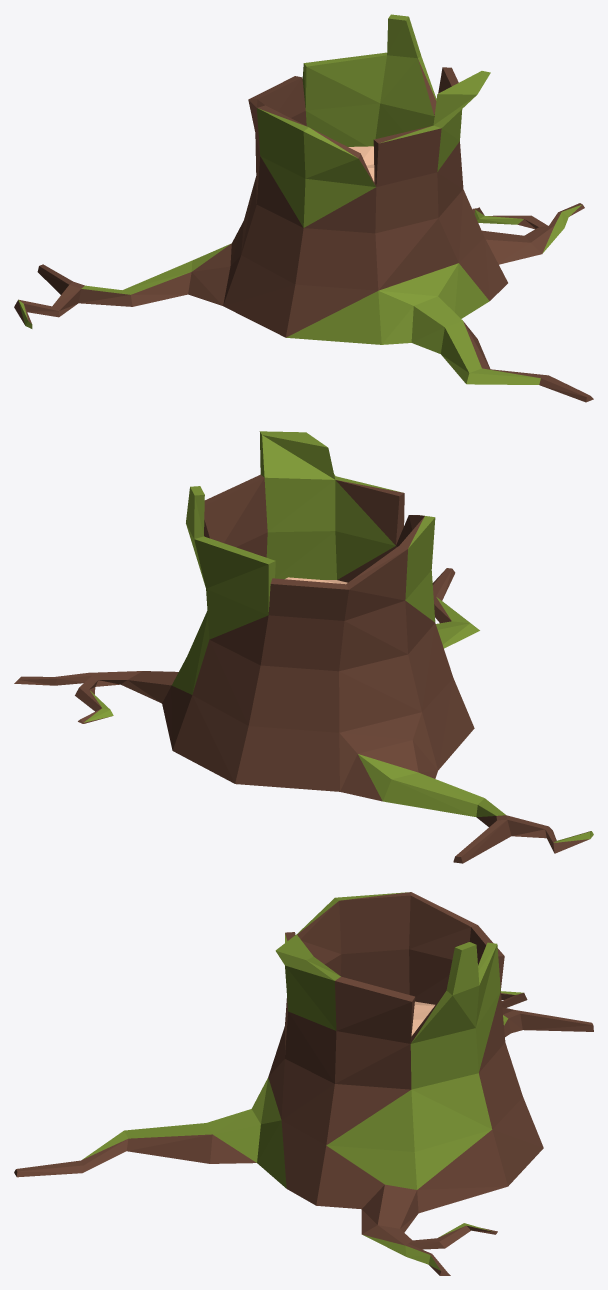
File: TreeTrunk_3_Moss.fbx
The picture shows the model from 3 angles, top to bottom: view 1: azimuth 30°, elevation 25°; view 2: azimuth 150°, elevation 25°; view 3: azimuth 270°, elevation 25°; orthographic projection. The views are drawn at different scales.
Parts seen in each view (by area): view 1: TreeTrunk_3_Moss; view 2: TreeTrunk_3_Moss; view 3: TreeTrunk_3_Moss.
Part boxes in pixels (x1,y1,x2,y2): TreeTrunk_3_Moss: (14, 14, 593, 402); TreeTrunk_3_Moss: (14, 431, 593, 863); TreeTrunk_3_Moss: (14, 892, 593, 1275).
Size of the model in its own units: 1.84 by 0.7293 by 1.6.
